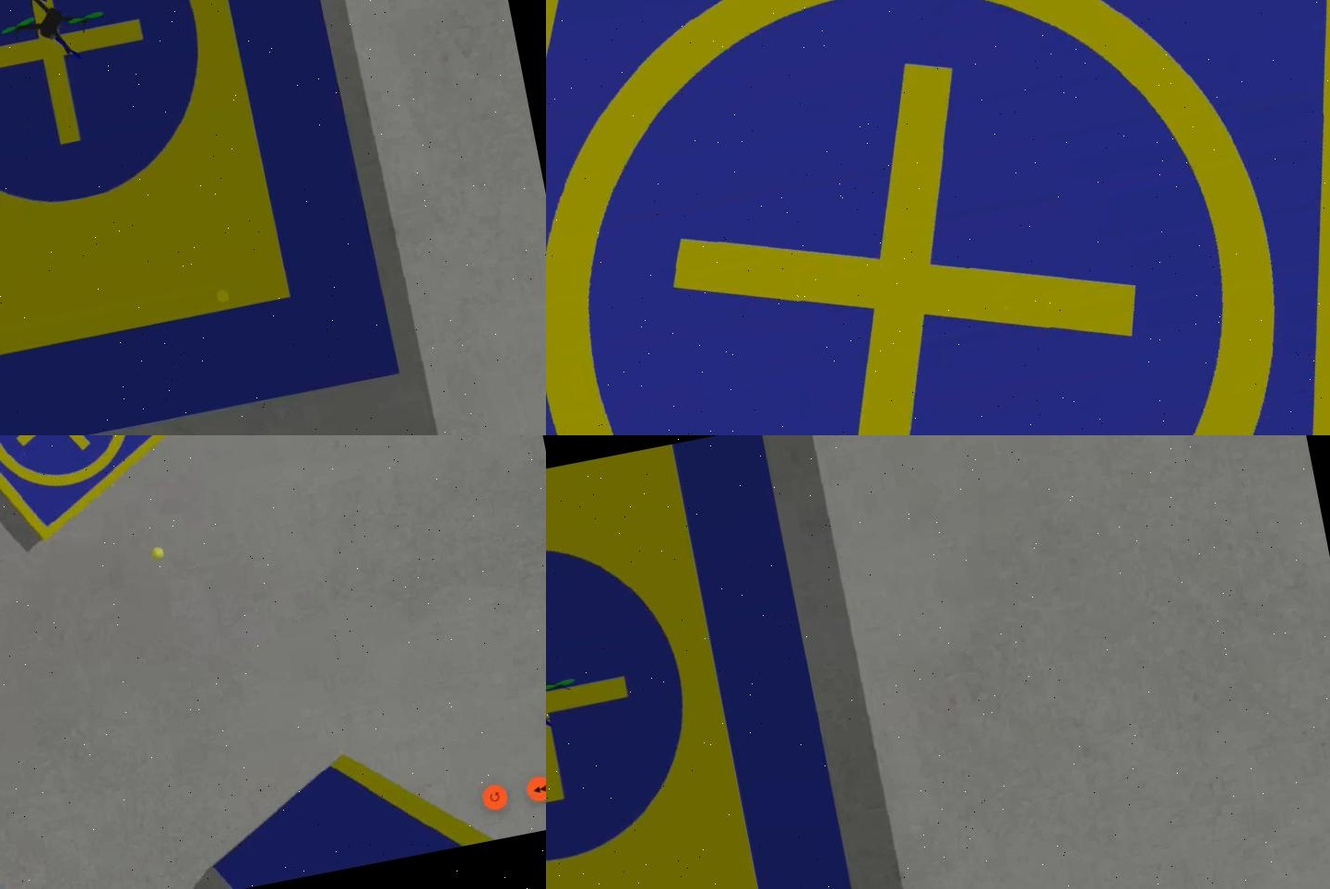large_base: (0, 1, 402, 435), (545, 435, 883, 889)
small_base: (545, 1, 1328, 435), (0, 435, 200, 560)
